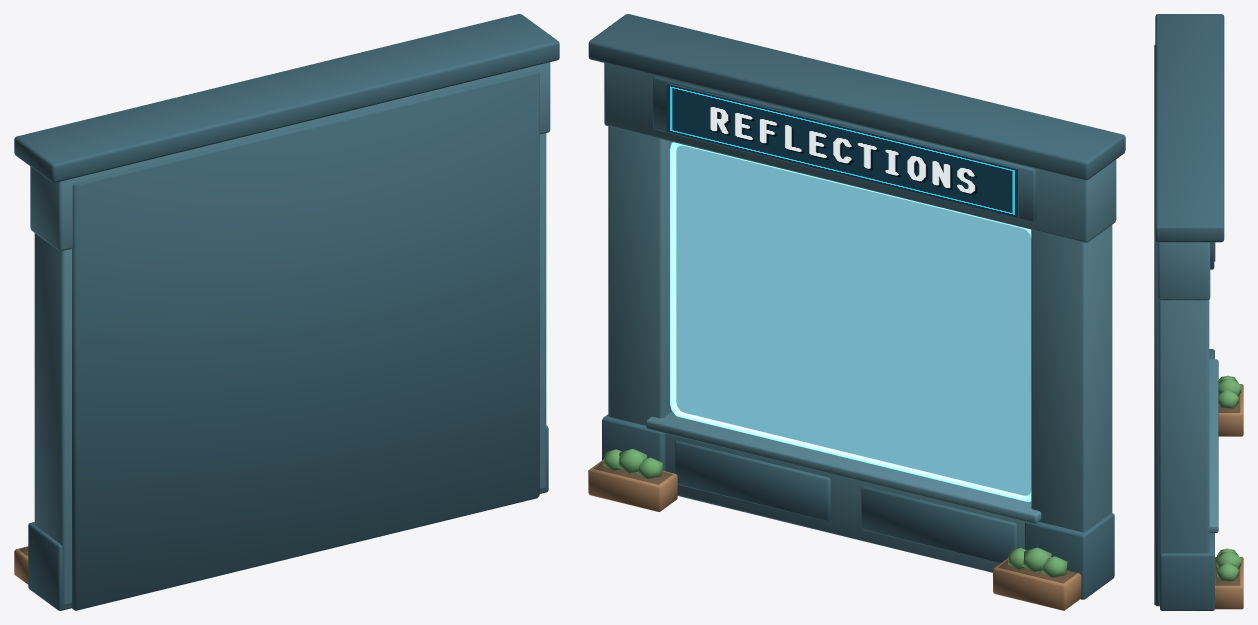
File: mirror_shopfront.glb
3 renders of one model, left to right at view 1: azimuth 30°, elevation 25°; view 2: azimuth 150°, elevation 25°; view 3: azimuth 270°, elevation 25°, orthographic. The views are drawn at different scales.
Visible parts, largest first — view 1: Mirror_Frame; view 2: Mirror_Frame, Mirror_Glass; view 3: Mirror_Frame.
Part boxes in pixels (left/top/right/bottom): Mirror_Frame: left=14, top=14, right=559, bottom=610; Mirror_Frame: left=588, top=14, right=1125, bottom=610; Mirror_Glass: left=676, top=145, right=1031, bottom=495; Mirror_Frame: left=1154, top=14, right=1243, bottom=610.
Size of the model in its own units: 4.4 by 3.74 by 0.78.
8 materials, 1 textured.
